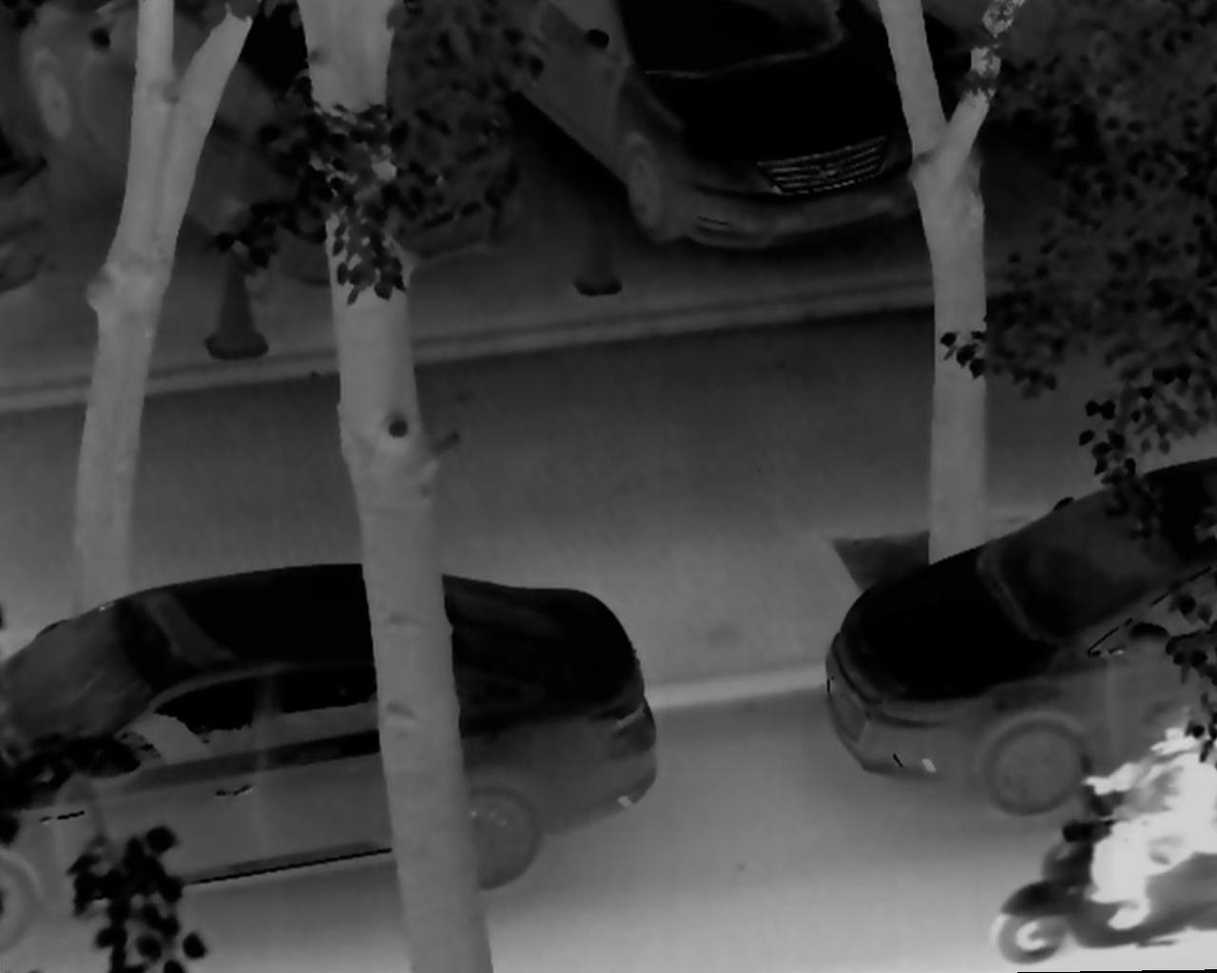person: (1081, 699, 1217, 932)
